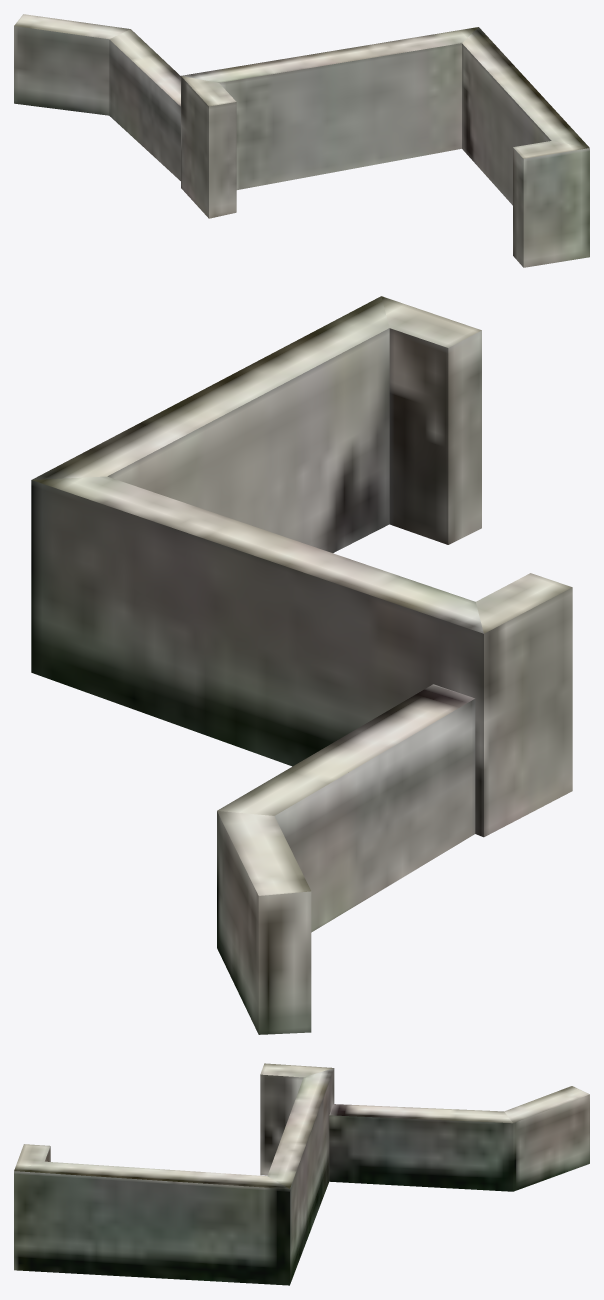
Rendered from Buildings_subset_31.dae.
3 views of the same model, one above another, from view 1: azimuth 30°, elevation 25°; view 2: azimuth 150°, elevation 25°; view 3: azimuth 270°, elevation 25° (orthographic). The views are drawn at different scales.
Visible parts, largest first — view 1: Buildings_subset_31.dae (×9); view 2: Buildings_subset_31.dae (×9); view 3: Buildings_subset_31.dae (×6).
Boxes of the visible parts, left/top/right/bottom form: Buildings_subset_31.dae (×9): left=14, top=14, right=589, bottom=267; Buildings_subset_31.dae (×9): left=31, top=296, right=572, bottom=1034; Buildings_subset_31.dae (×6): left=14, top=1063, right=589, bottom=1285.
Size of the model in its own units: 17.8 by 31.59 by 6.32.
Materials: 1 (1 with a texture image).
